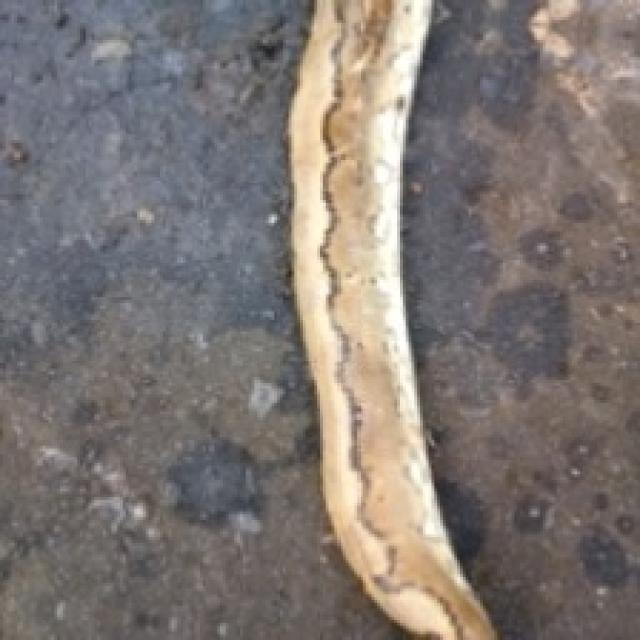reticulated python: (289, 0, 494, 637)
